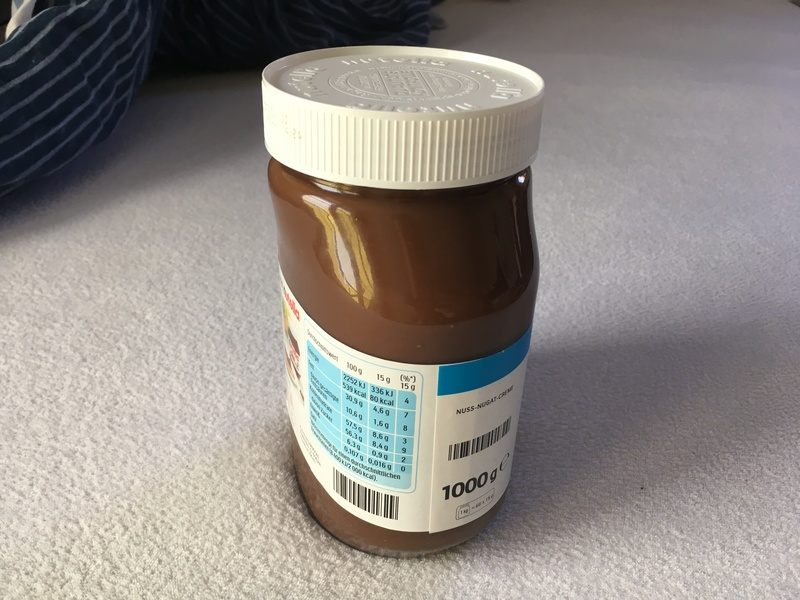nutella: (260, 45, 545, 555)
